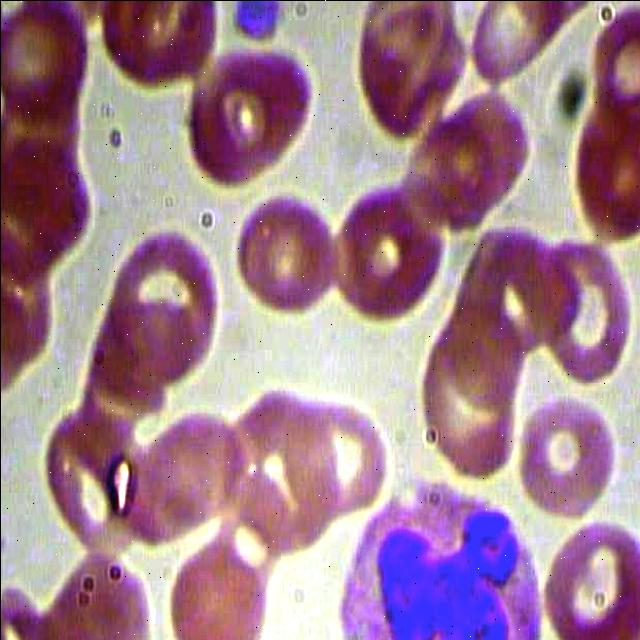Platelets: (231, 0, 280, 49)
RBC: (180, 41, 320, 201), (103, 218, 225, 378), (414, 310, 524, 480), (328, 182, 444, 326), (532, 225, 634, 388), (272, 389, 392, 522), (224, 180, 340, 316), (351, 0, 463, 138), (512, 386, 620, 526), (541, 518, 640, 640), (570, 84, 640, 244), (162, 538, 268, 640), (0, 0, 90, 114)
WBC: (331, 474, 548, 640)
